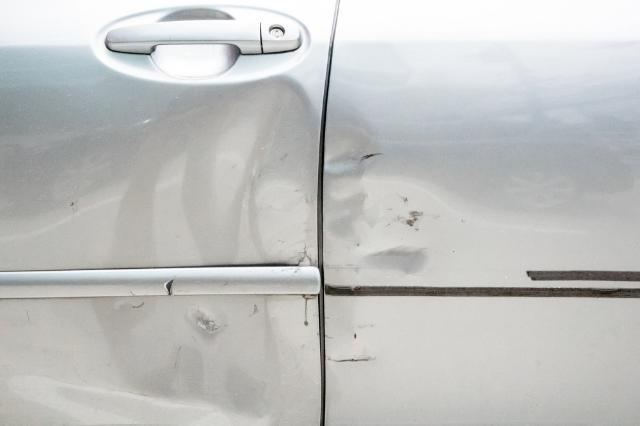dent: (16, 299, 286, 426), (318, 105, 440, 284), (210, 75, 321, 266)
